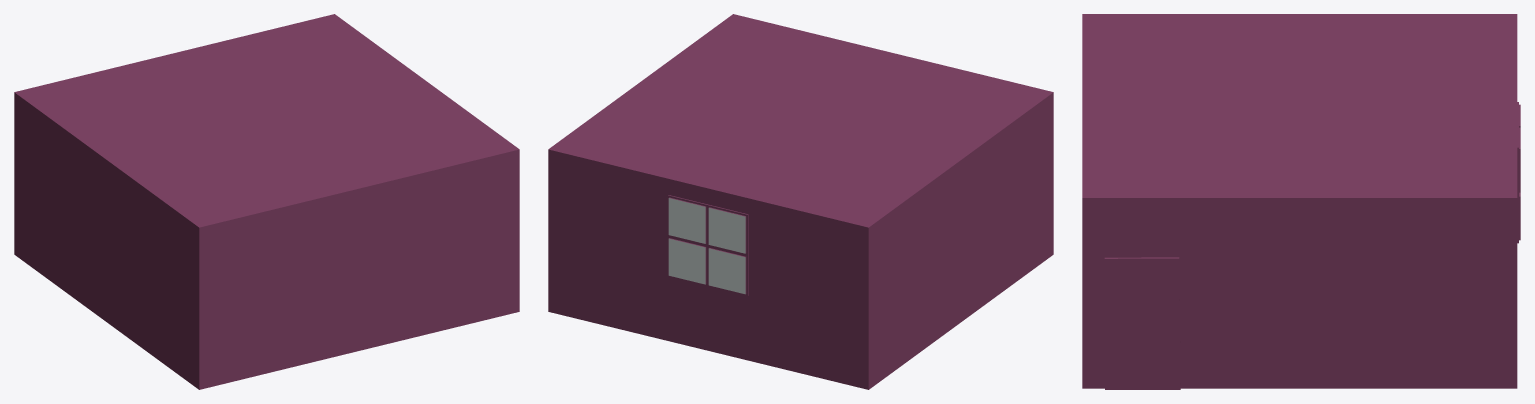
The model's file is room.fbx.
3 renders of one model, left to right at view 1: azimuth 30°, elevation 25°; view 2: azimuth 150°, elevation 25°; view 3: azimuth 270°, elevation 25°, orthographic. The views are drawn at different scales.
Visible parts, largest first — view 1: Walls; view 2: Walls; view 3: Walls.
Part boxes in pixels (box(x1,y1,x2,y2)): Walls: box(14, 14, 519, 389); Walls: box(548, 14, 1053, 389); Walls: box(1082, 14, 1520, 389).
Size of the model in its own units: 604 by 290 by 604.
